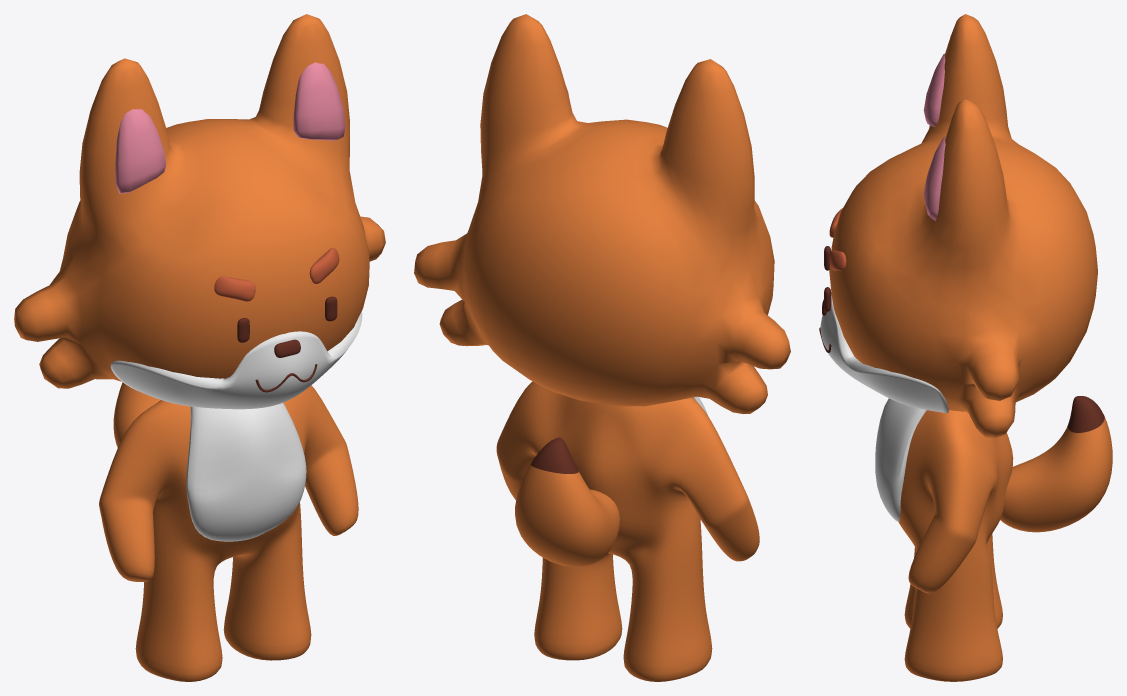
Rendered from Fox_Character.fbx.
The picture shows the model from 3 angles, left to right: view 1: azimuth 30°, elevation 25°; view 2: azimuth 150°, elevation 25°; view 3: azimuth 270°, elevation 25°; orthographic projection. The views are drawn at different scales.
Parts seen in each view (by area): view 1: Cube.002, Cube.001, Cube.005, Cube.003, Cube.004, Cube.009, Cube.007, Cube.006, Cube; view 2: Cube.002, Cube.001, Cube.009; view 3: Cube.002, Cube.001, Cube.009, Cube.003, Cube.005, Cube.004.
Boxes of the visible parts, x1,y1,x2,y2 form: Cube.002: (14, 14, 385, 388); Cube.001: (99, 385, 358, 681); Cube.005: (186, 403, 306, 541); Cube.003: (110, 311, 362, 409); Cube.004: (115, 62, 345, 193); Cube.009: (113, 382, 160, 447); Cube.007: (214, 276, 255, 301); Cube.006: (309, 248, 339, 283); Cube: (237, 296, 337, 342); Cube.002: (414, 14, 790, 413); Cube.001: (496, 381, 759, 681); Cube.009: (515, 437, 619, 567); Cube.002: (829, 14, 1097, 437); Cube.001: (898, 410, 1013, 681); Cube.009: (1000, 396, 1112, 532); Cube.003: (820, 294, 948, 413); Cube.005: (875, 398, 926, 521); Cube.004: (923, 53, 945, 220).
Bounding box in the file's own units: 265 × 427 × 192.
